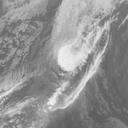cyclone: (51, 26, 102, 77)
